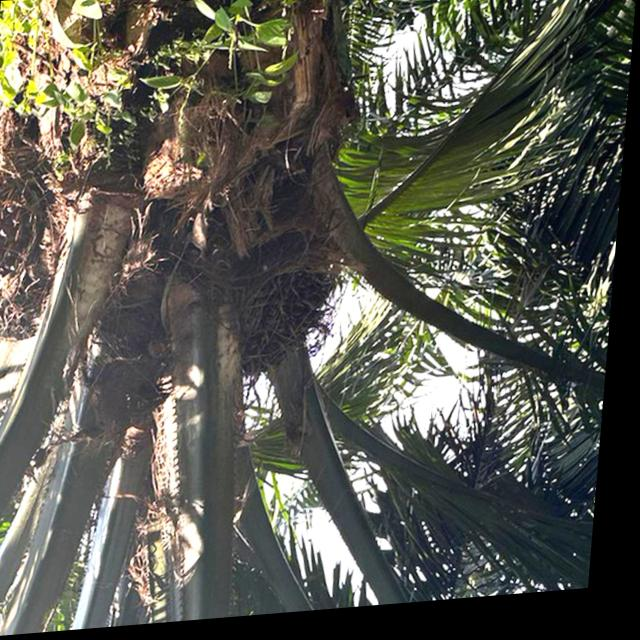unripe: (216, 235, 363, 396), (0, 117, 89, 305)
